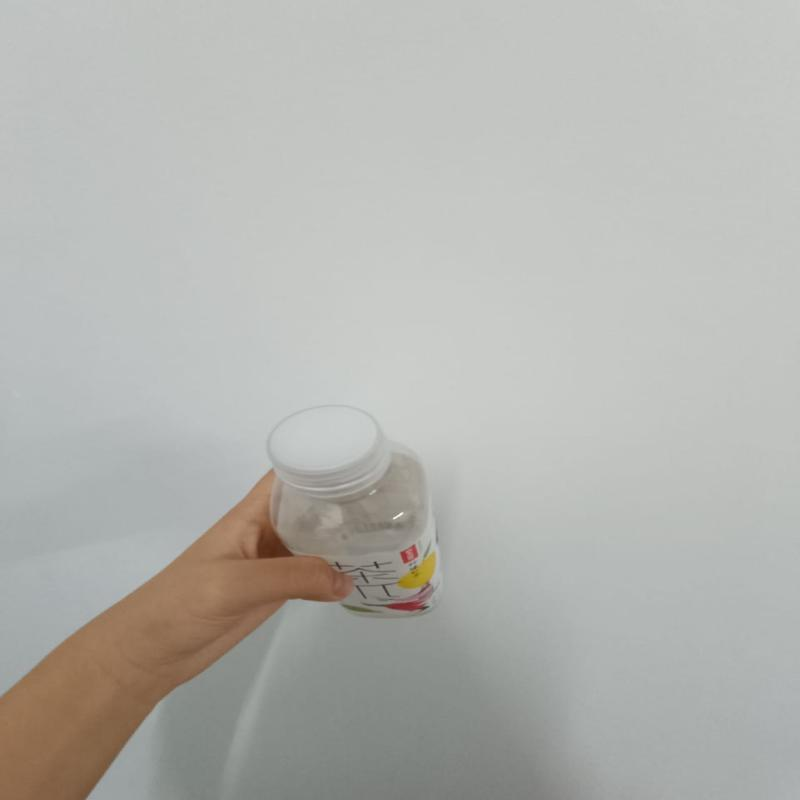botella: (267, 403, 449, 619)
